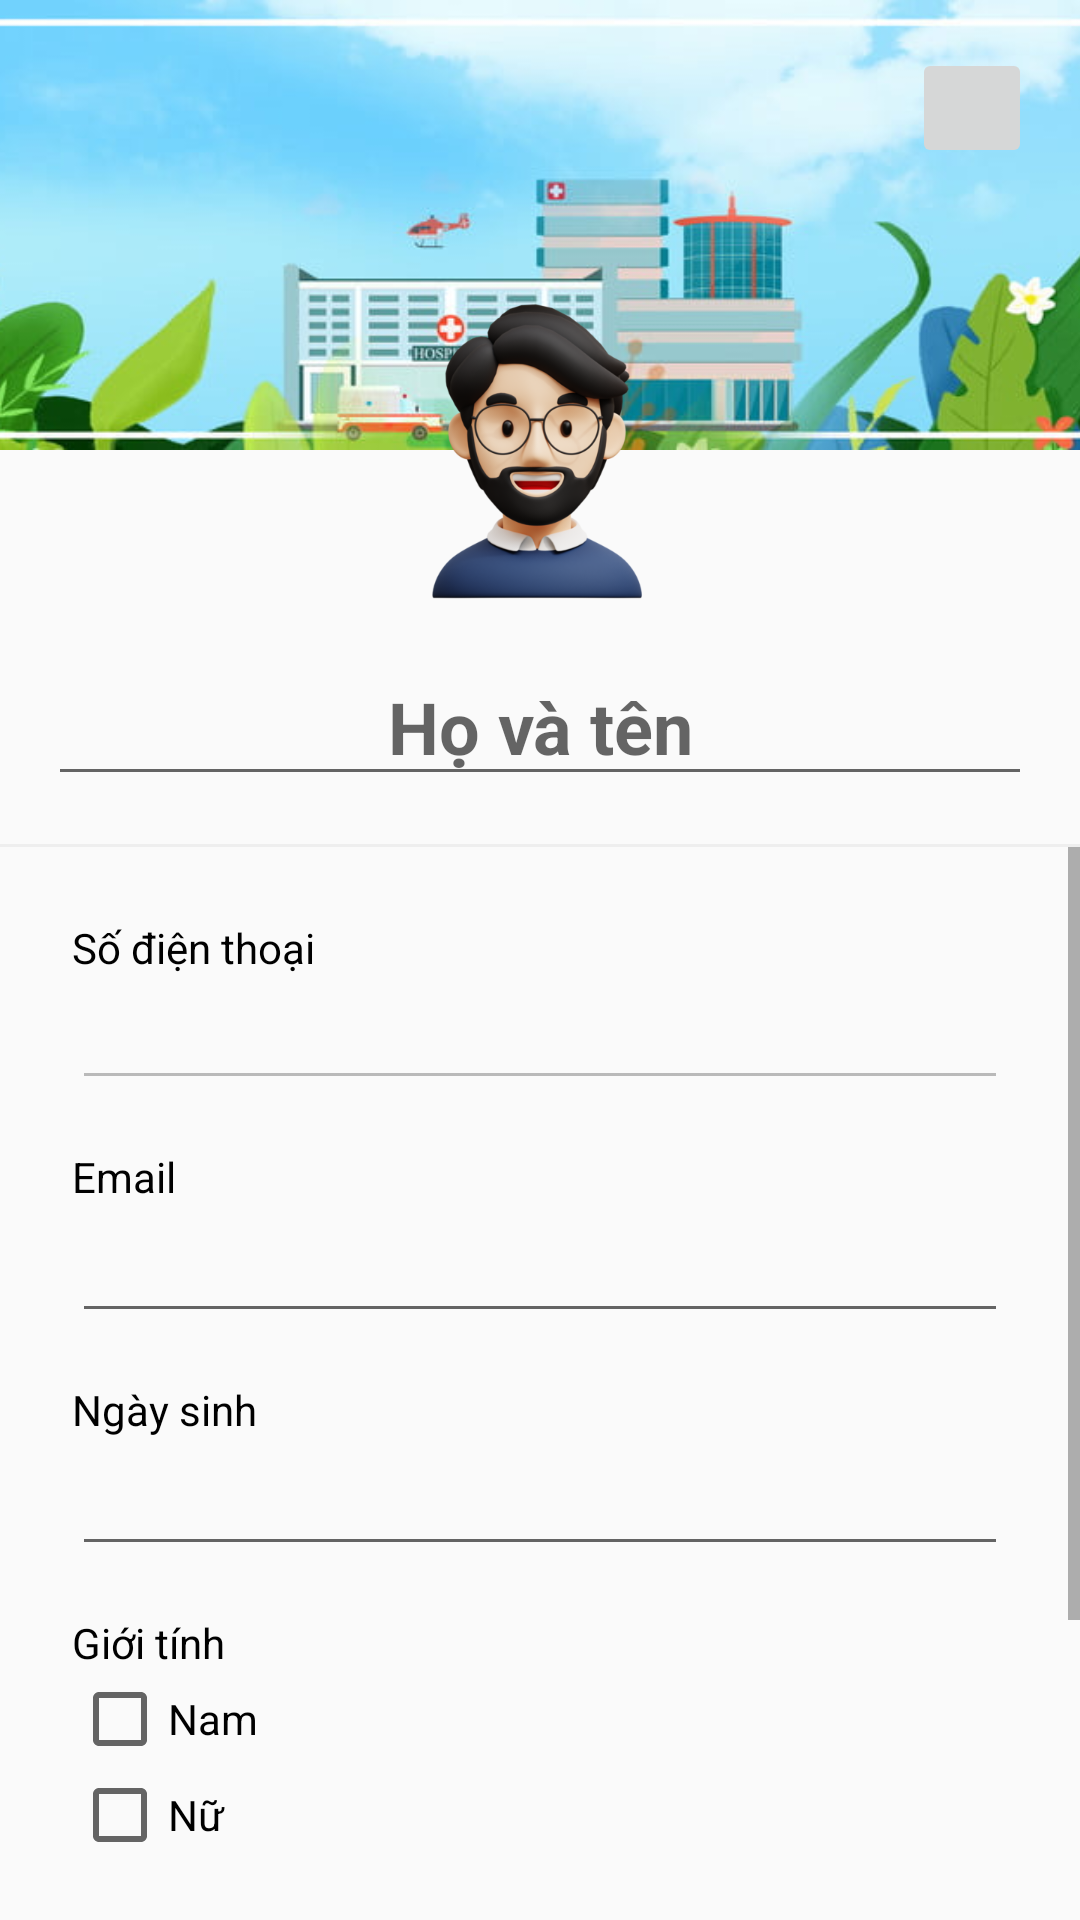

Icon click points for this 1080x1920 phone screenshot, format [x,y]:
avt: [540,450]
